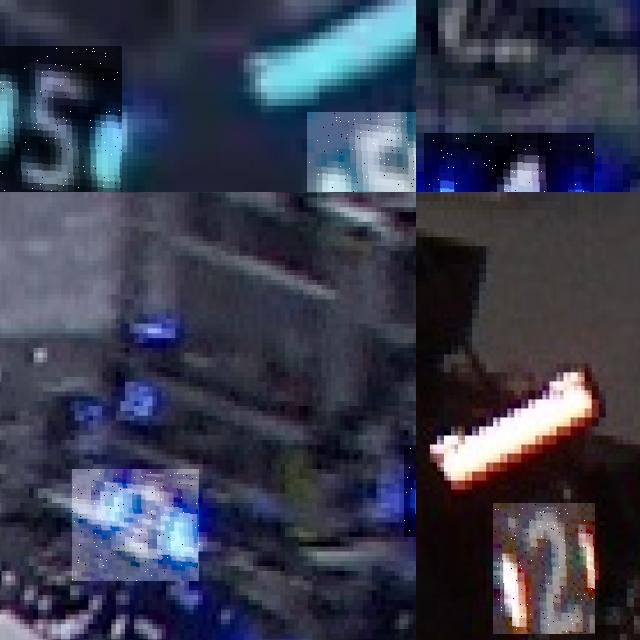B2: (72, 469, 200, 581)
B4: (423, 132, 594, 192)
B5: (0, 45, 121, 192), (307, 112, 416, 192)
R2: (493, 503, 595, 634)
